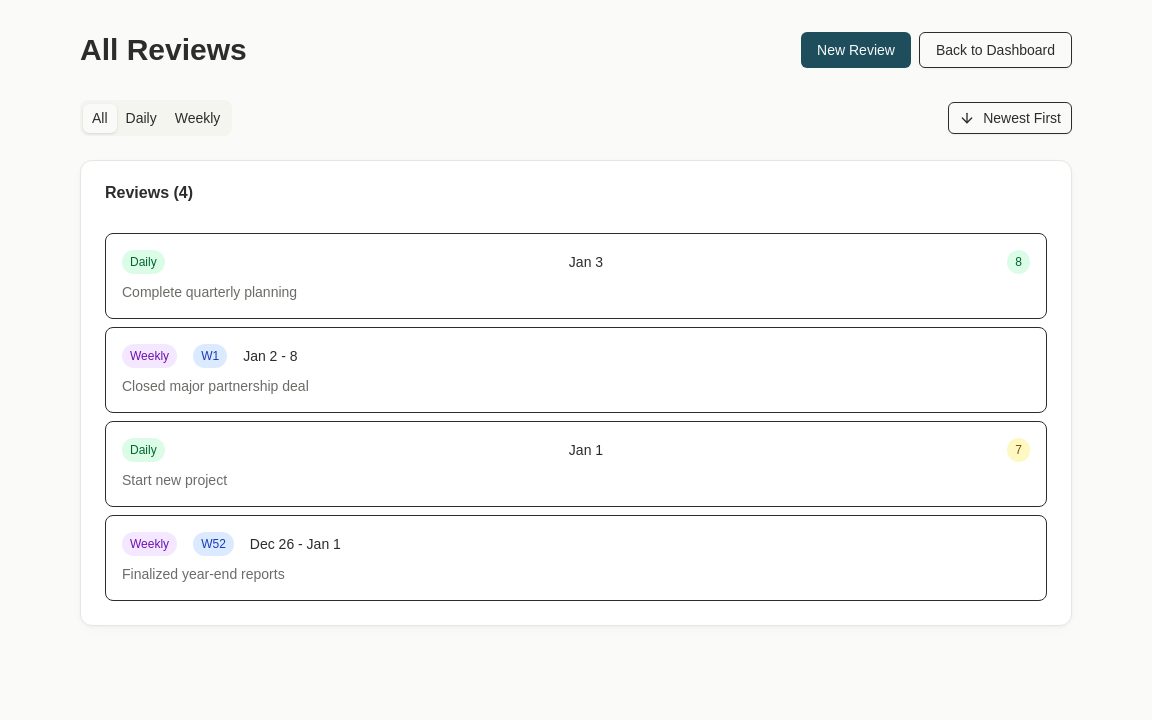
Test: AC3: ReviewsPage - Combined View › Filter Integration (AC1 + AC3) › should update view when filter is changed
Expected: the number of list items is 4, [105, 233, 1047, 319]; [105, 327, 1047, 413]; [105, 421, 1047, 507]; [105, 515, 1047, 601]
Step 1. Click the tab with test id "filter-weekly" → click(198, 118), box [166, 104, 229, 132]
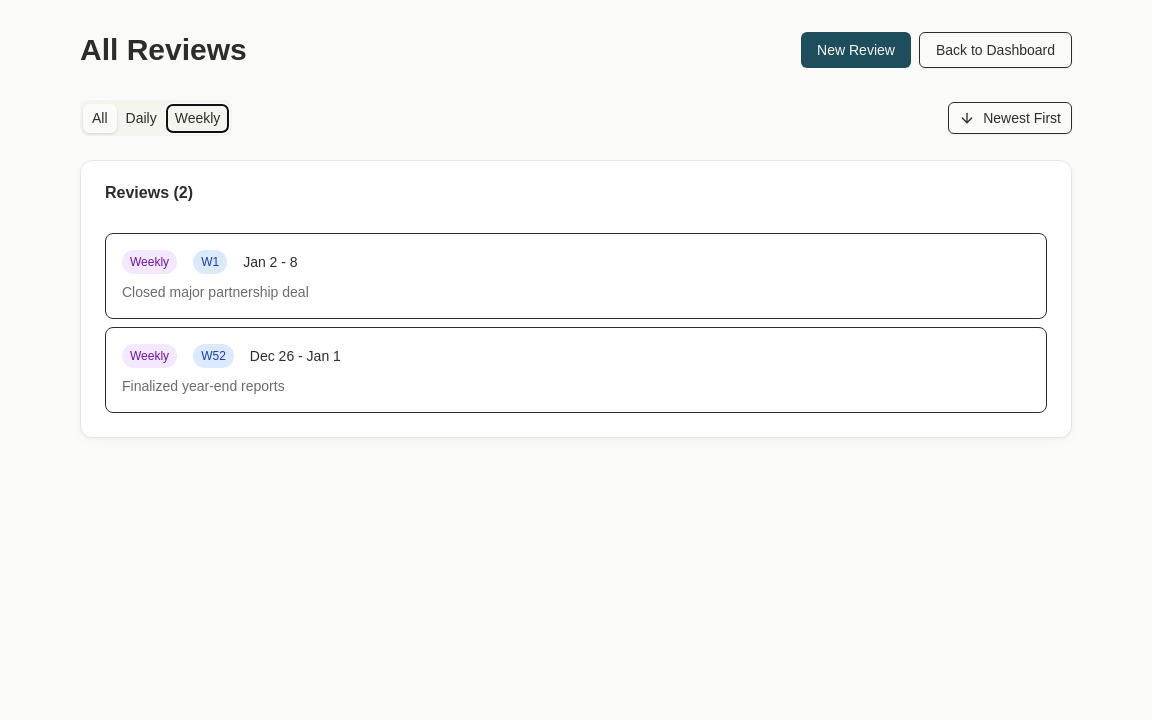
Expected: the number of list items is 2, [105, 233, 1047, 319]; [105, 327, 1047, 413]
